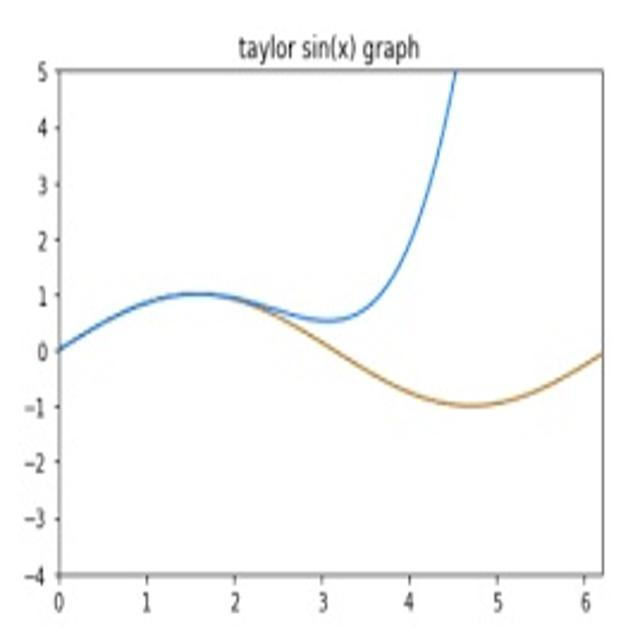axis: (50, 569, 610, 585), (49, 64, 65, 587)
line: (55, 68, 463, 356), (55, 288, 605, 415)
